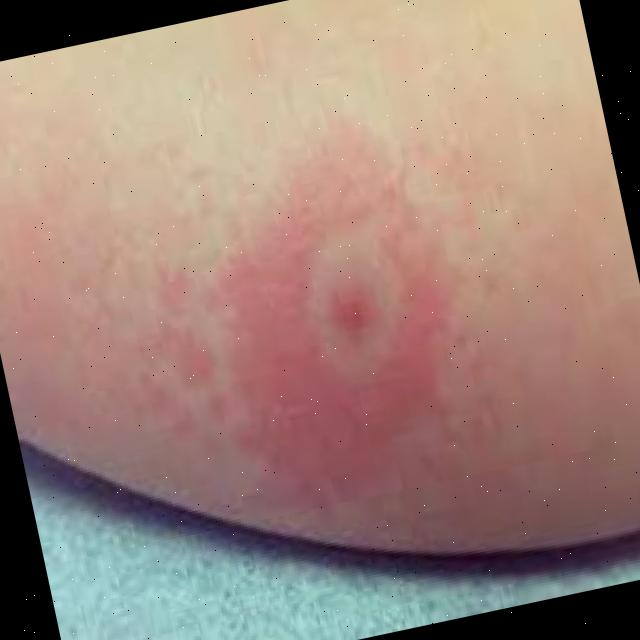kene: (121, 64, 570, 566)
